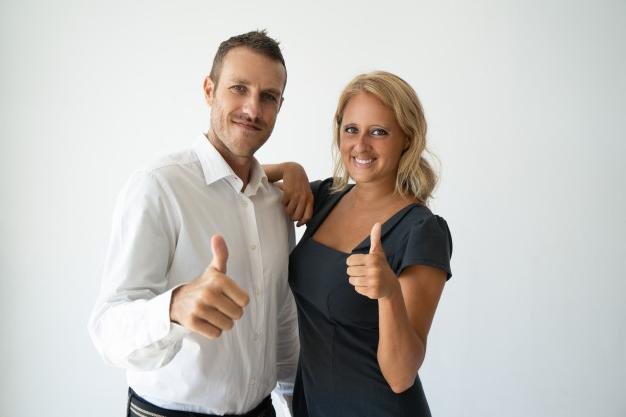thumbsup: (188, 235, 250, 339), (346, 222, 387, 299)
